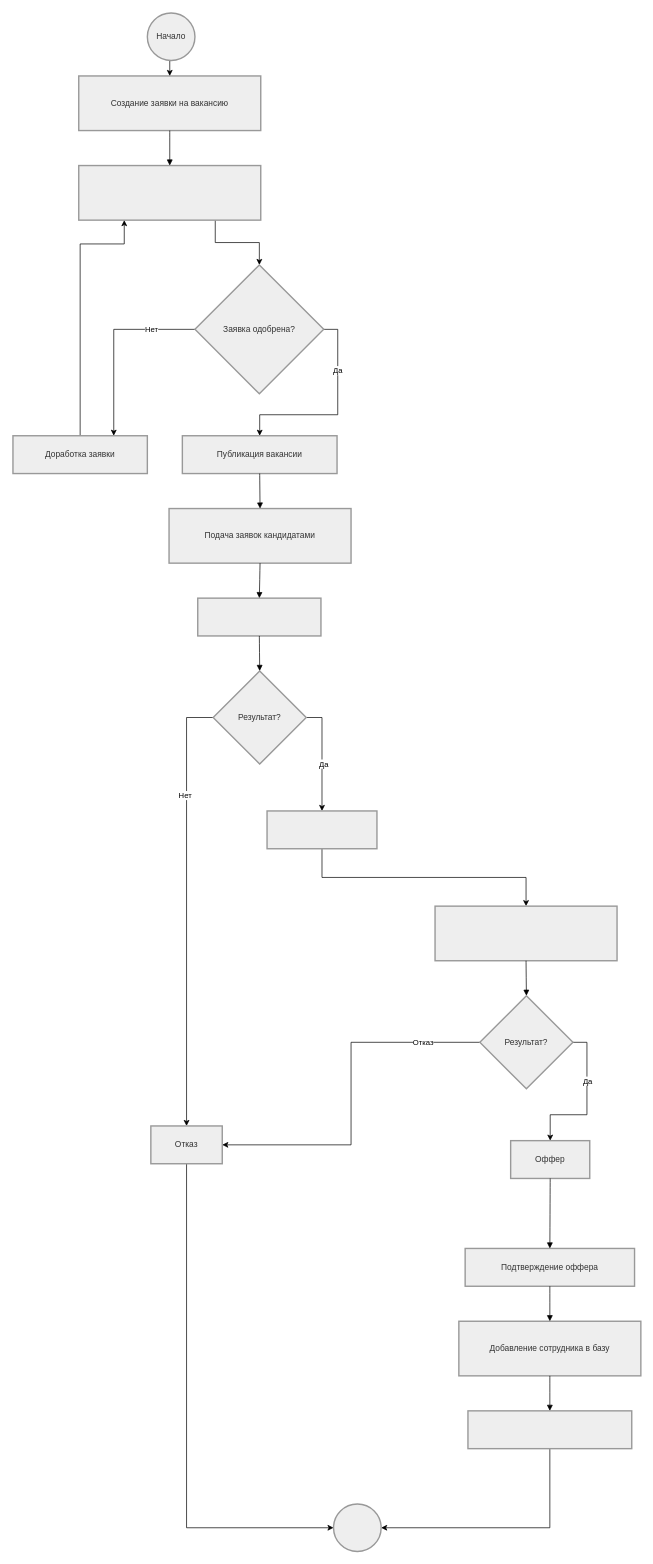
This 653x1564 diagram has some shape labels left out. Each missing label, with the centre of its shape:
"HR-интервью" goes at [321,829].
"Конец" goes at [357,1527].
"Проверка анкет" goes at [259,616].
"Проверка заявки HR-отделом" goes at [169,192].
"Техническое собеседование" goes at [525,933].
"Уведомление IT-отдела" goes at [549,1429].
